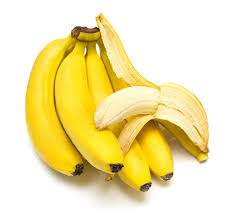banana: (46, 33, 130, 186), (24, 32, 85, 197), (96, 80, 210, 155)
